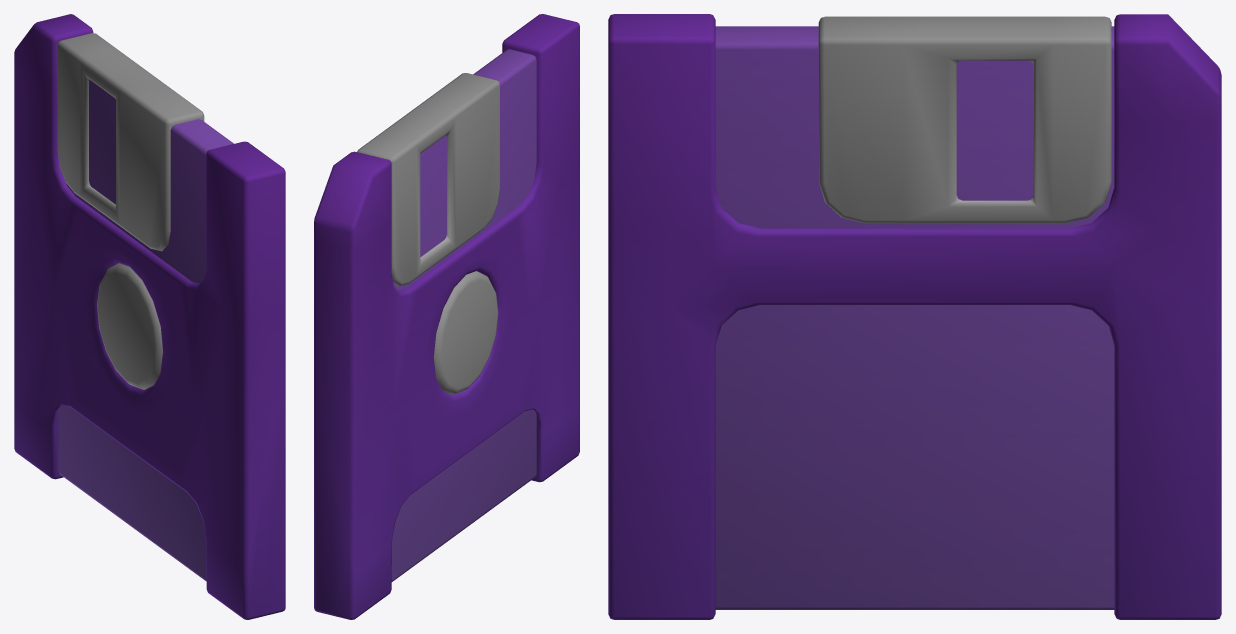
Rendered from floppy-disk.fbx.
3 renders of one model, left to right at view 1: azimuth 30°, elevation 25°; view 2: azimuth 150°, elevation 25°; view 3: azimuth 270°, elevation 25°, orthographic. The views are drawn at different scales.
Parts seen in each view (by area): view 1: Cube; view 2: Cube; view 3: Cube.
Part boxes in pixels (x1,y1,x2,y2): Cube: [14, 14, 285, 619]; Cube: [314, 14, 579, 619]; Cube: [608, 14, 1221, 619].
Size of the model in its own units: 22.05 by 210 by 200.
